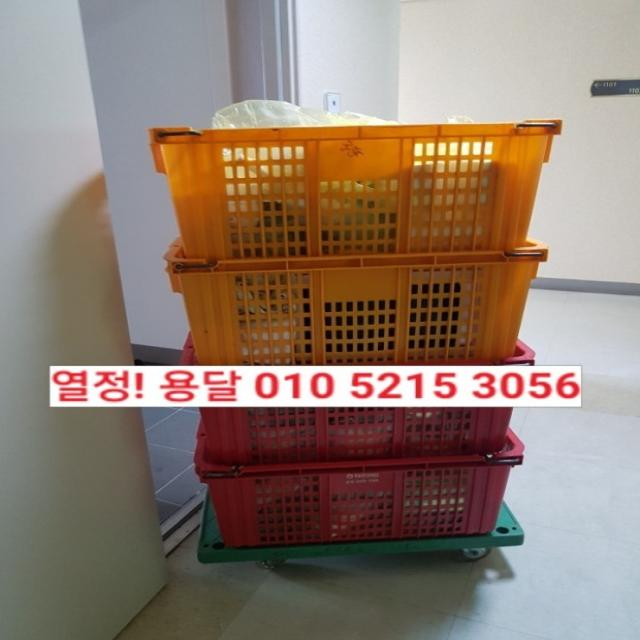basket: (148, 114, 567, 262), (165, 241, 547, 367), (201, 409, 513, 466)
